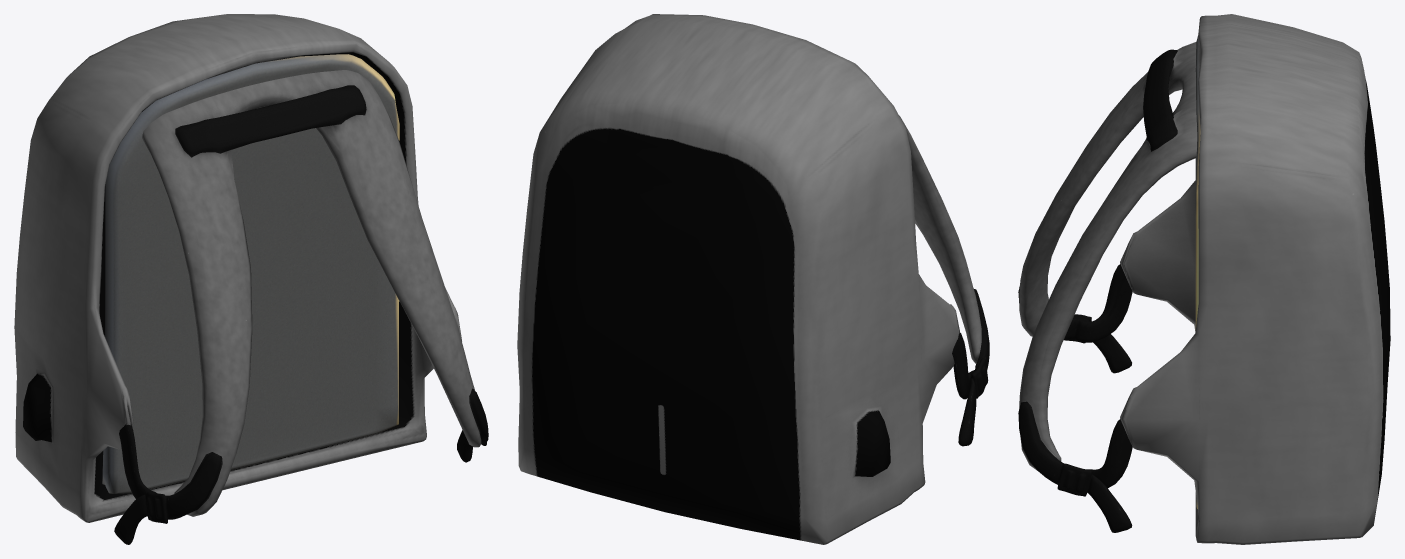
The model's file is bag.gltf.
The picture shows the model from 3 angles, left to right: view 1: azimuth 30°, elevation 25°; view 2: azimuth 150°, elevation 25°; view 3: azimuth 270°, elevation 25°; orthographic projection. The views are drawn at different scales.
Bounding box in the file's own units: 3.79 × 4.53 × 3.59.
Materials: 3 (3 with a texture image).
